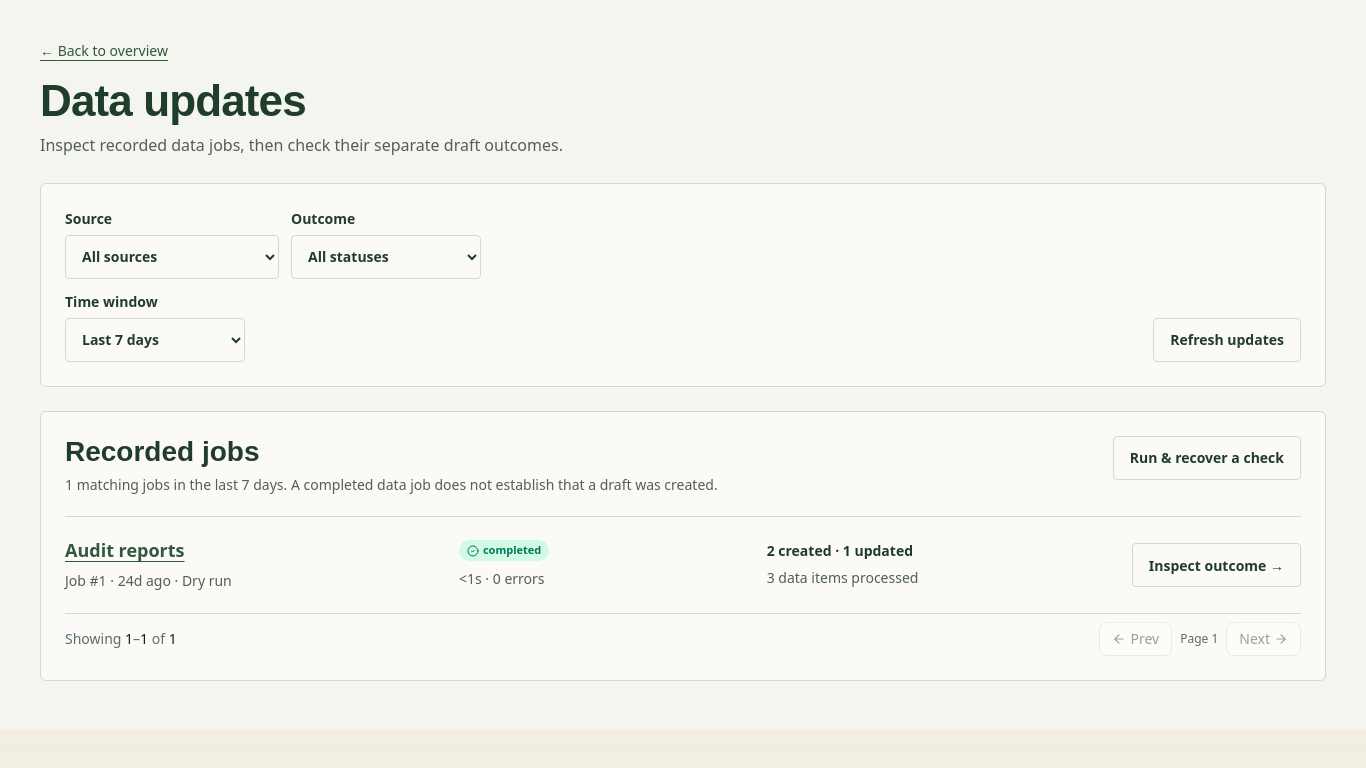
Test: a failed refresh stops showing old successful counts
Click the button "Refresh updates".
click(1227, 340)  # box x1=1153 y1=318 x2=1301 y2=362
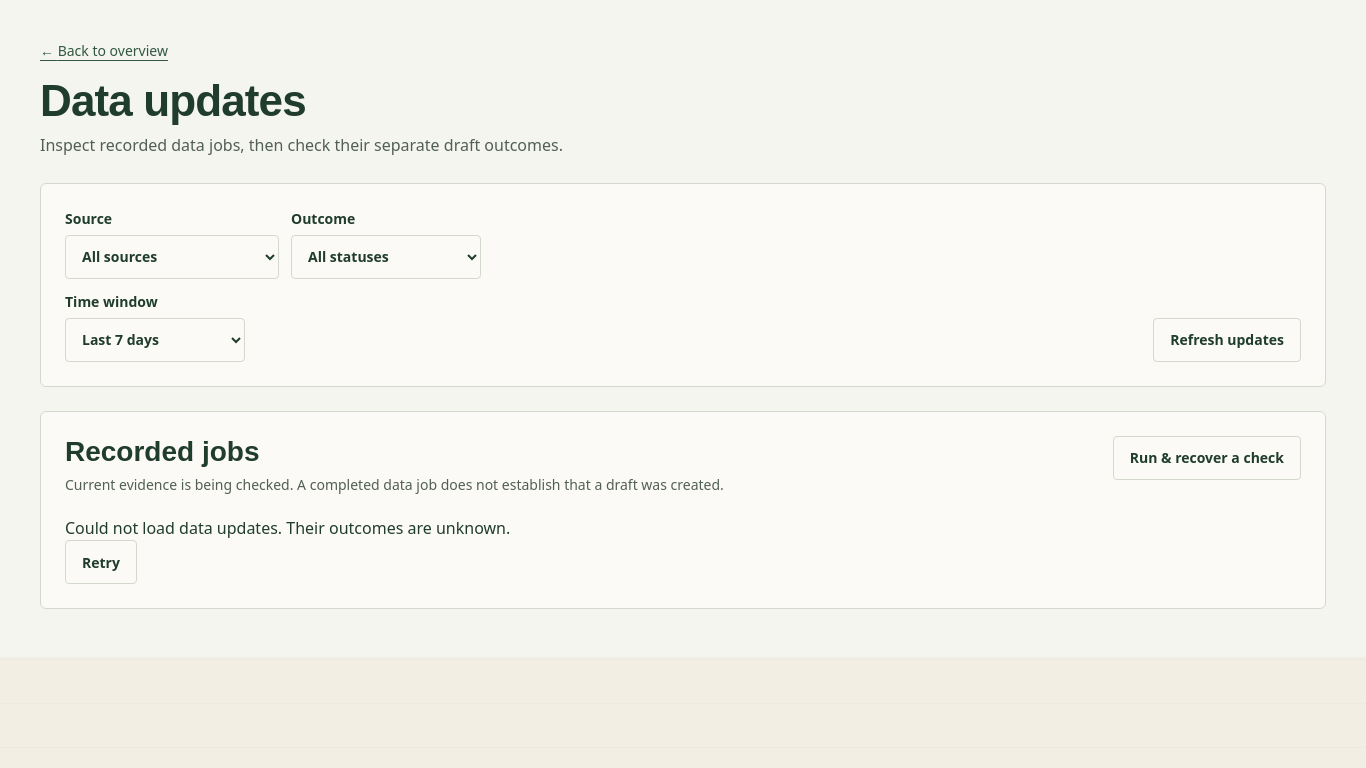
Now the text "Could not load data updates. Their outcomes are unknown." is shown, box x1=65 y1=517 x2=510 y2=539
